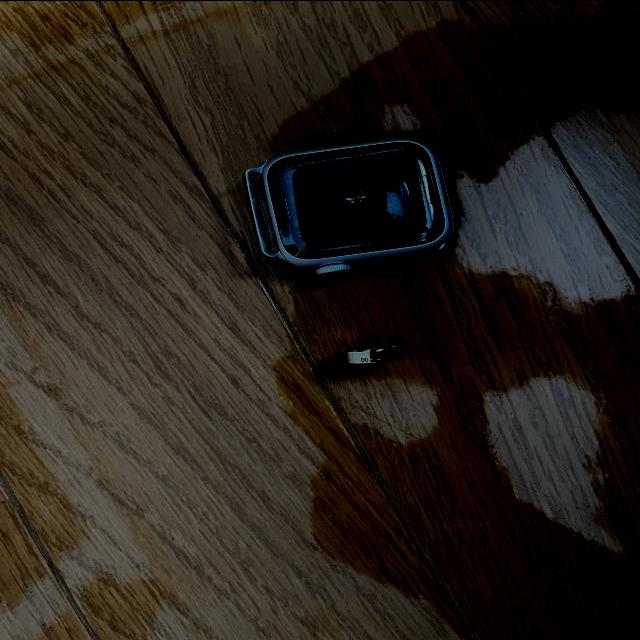COIN: (346, 343, 398, 365)
